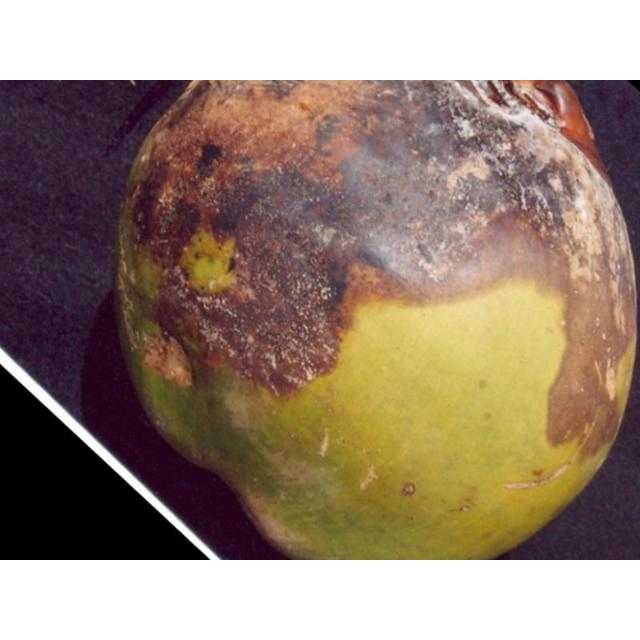damaged: (116, 80, 634, 559)
